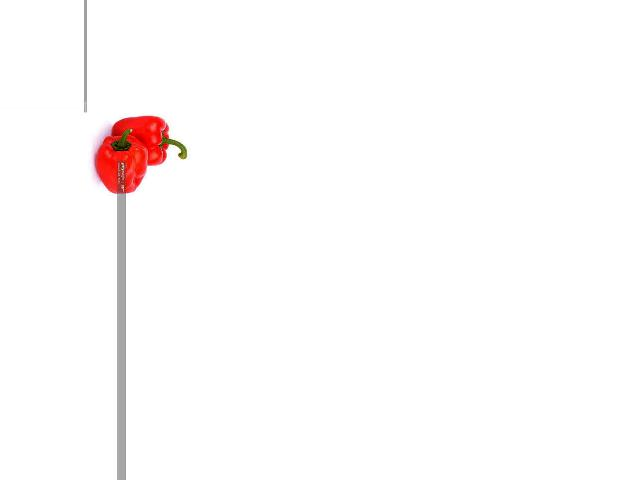bell_pepper: (96, 130, 152, 201)
